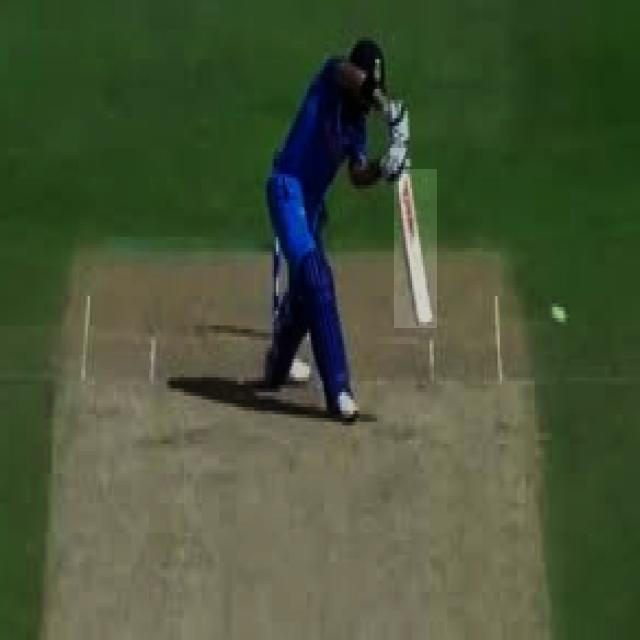bat: (394, 169, 442, 328)
toe: (415, 315, 438, 327)
